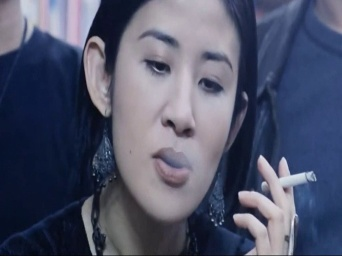smoke: (260, 168, 319, 189)
